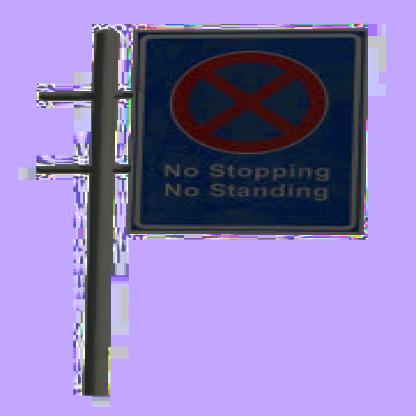No stopping: (169, 48, 332, 148)
